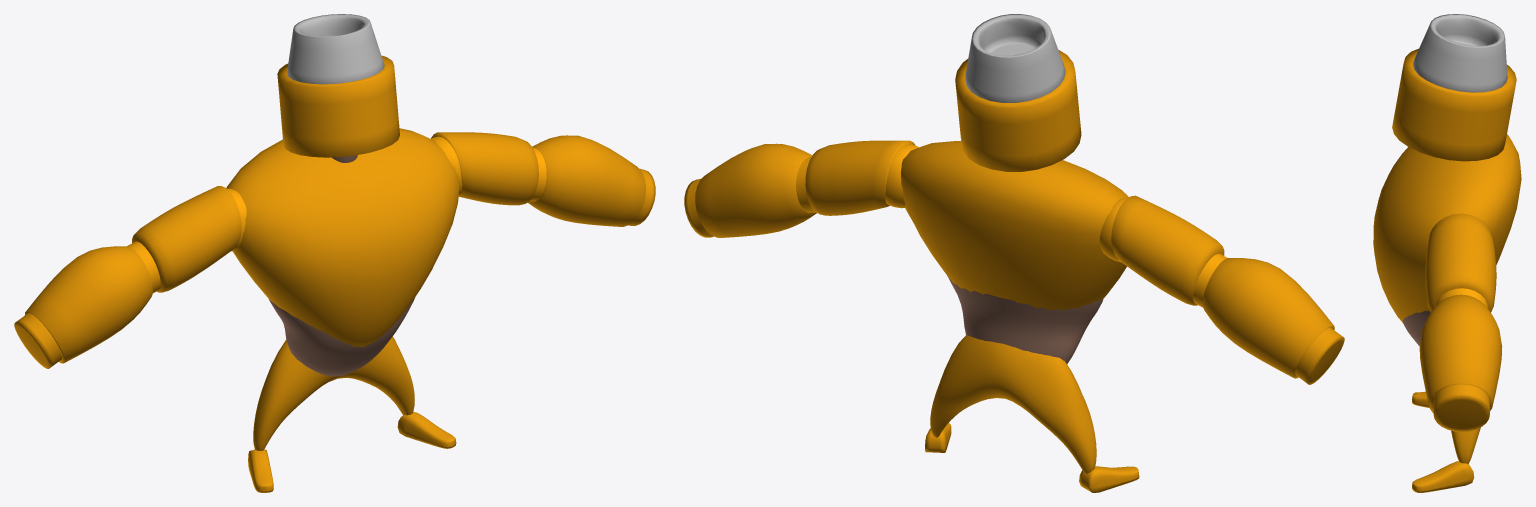
The model's file is nuclear.fbx.
3 views of the same model, side by side, from view 1: azimuth 30°, elevation 25°; view 2: azimuth 150°, elevation 25°; view 3: azimuth 270°, elevation 25° (orthographic). The views are drawn at different scales.
Visible parts, largest first — view 1: Borst, Onderarmen, Bovenarmen, Hoofd, Benen, Hoed, Buikie, Voeten, Tussending, Schouders; view 2: Borst, Onderarmen, Bovenarmen, Benen, Hoofd, Hoed, Buikie, Voeten, Schouders, Tussending; view 3: Borst, Onderarmen, Hoofd, Hoed, Bovenarmen, Voeten, Benen, Buikie, Tussending.
Part boxes in pixels (left/top/right/bottom): Borst: left=226, top=128, right=459, bottom=346; Onderarmen: left=14, top=135, right=655, bottom=368; Bovenarmen: left=132, top=132, right=538, bottom=292; Hoofd: left=277, top=55, right=399, bottom=157; Benen: left=253, top=336, right=414, bottom=450; Hoed: left=287, top=14, right=384, bottom=84; Buikie: left=269, top=298, right=414, bottom=376; Voeten: left=248, top=411, right=456, bottom=492; Tussending: left=127, top=147, right=546, bottom=293; Schouders: left=227, top=136, right=462, bottom=251; Borst: left=901, top=141, right=1128, bottom=310; Onderarmen: left=684, top=143, right=1344, bottom=384; Bovenarmen: left=805, top=140, right=1224, bottom=305; Benen: left=930, top=335, right=1096, bottom=473; Hoofd: left=955, top=50, right=1081, bottom=171; Hoed: left=965, top=14, right=1065, bottom=102; Buikie: left=947, top=276, right=1103, bottom=363; Voeten: left=925, top=423, right=1139, bottom=492; Schouders: left=885, top=144, right=1126, bottom=262; Tussending: left=796, top=157, right=1227, bottom=307; Borst: left=1373, top=134, right=1521, bottom=322; Onderarmen: left=1419, top=294, right=1502, bottom=431; Hoofd: left=1392, top=48, right=1516, bottom=161; Hoed: left=1413, top=14, right=1507, bottom=92; Bovenarmen: left=1425, top=213, right=1496, bottom=312; Voeten: left=1412, top=391, right=1474, bottom=492; Benen: left=1451, top=427, right=1480, bottom=463; Buikie: left=1402, top=310, right=1430, bottom=345; Tussending: left=1435, top=288, right=1488, bottom=308.
Bounding box in the file's own units: 10.96 × 7.17 × 2.29.
